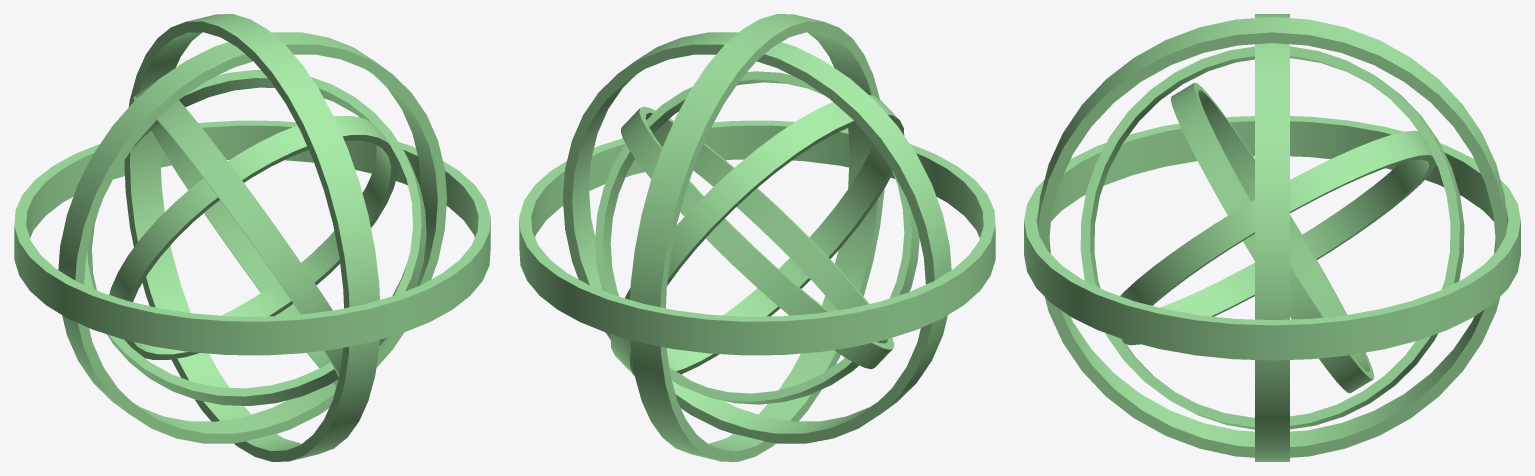
File: OPHANIM.glb
3 renders of one model, left to right at view 1: azimuth 30°, elevation 25°; view 2: azimuth 150°, elevation 25°; view 3: azimuth 270°, elevation 25°, orthographic. The views are drawn at different scales.
Parts seen in each view (by area): view 1: OPHANIM; view 2: OPHANIM; view 3: OPHANIM.
Part boxes in pixels (box(x1,y1,x2,y2)): OPHANIM: box(14, 14, 490, 461); OPHANIM: box(519, 14, 995, 461); OPHANIM: box(1024, 14, 1520, 461).
Size of the model in its own units: 0.3015 by 0.2857 by 0.3015.
